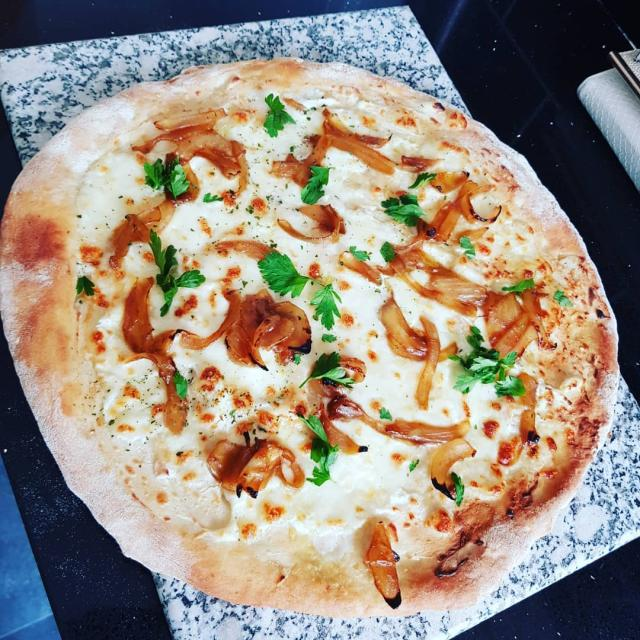pizza: (0, 53, 621, 622)
